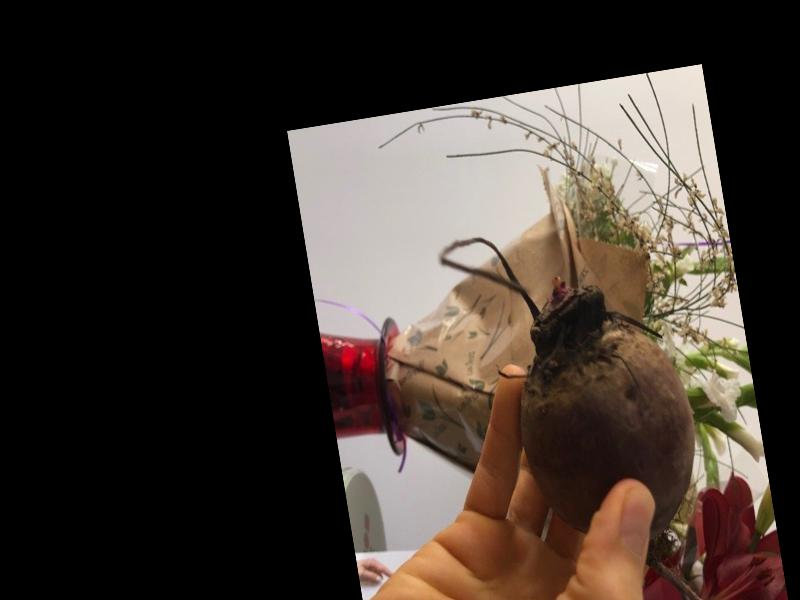Beet: (437, 202, 750, 600)
